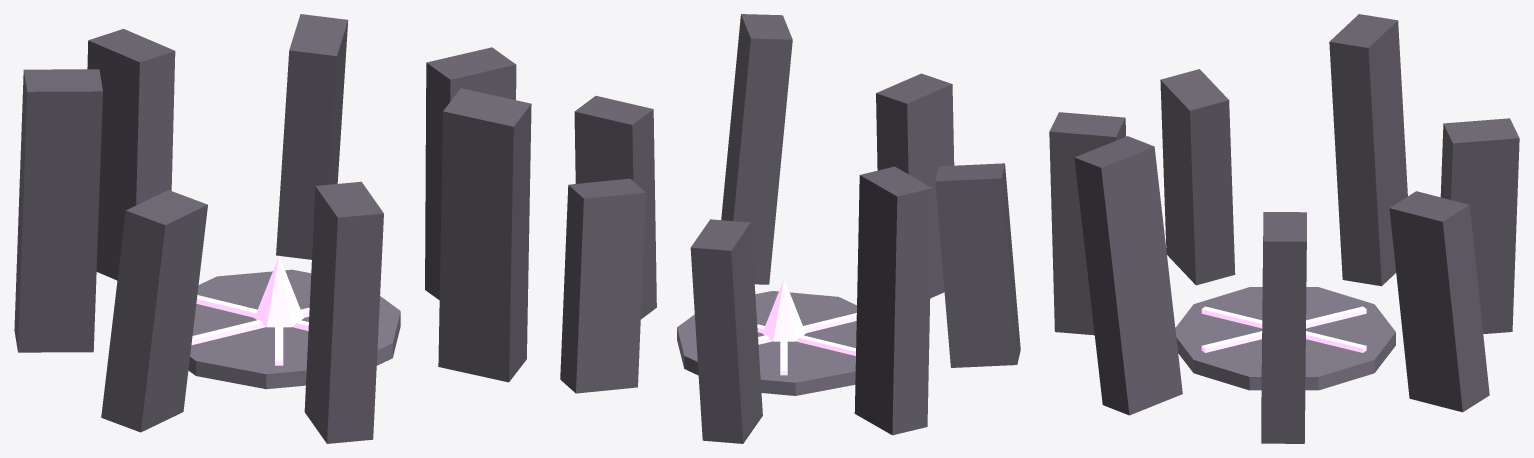
The model's file is stone_circle.glb.
3 views of the same model, side by side, from view 1: azimuth 30°, elevation 25°; view 2: azimuth 150°, elevation 25°; view 3: azimuth 270°, elevation 25° (orthographic). The views are drawn at different scales.
Visible parts, largest first — view 1: stone_circle; view 2: stone_circle; view 3: stone_circle.
Part boxes in pixels (<box>): stone_circle: <box>14,14,531,443</box>; stone_circle: <box>560,14,1020,443</box>; stone_circle: <box>1049,14,1519,443</box>.
Bounding box in the file's own units: 3.74 × 2.23 × 3.78.
